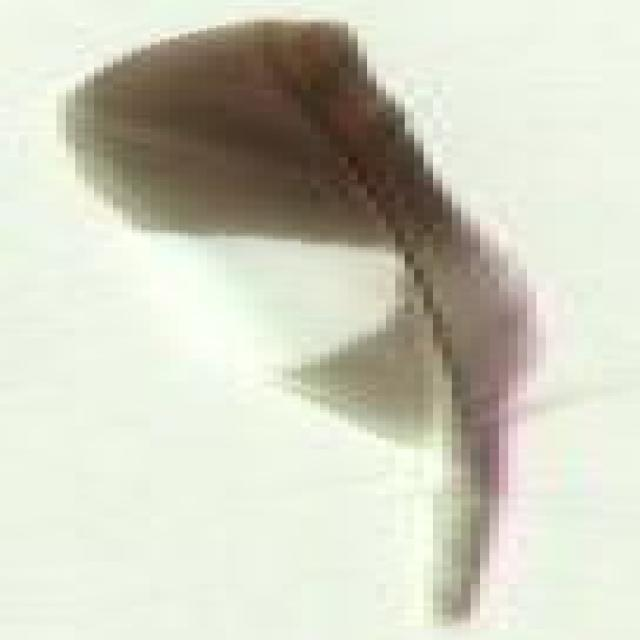feather: (42, 15, 549, 627)
